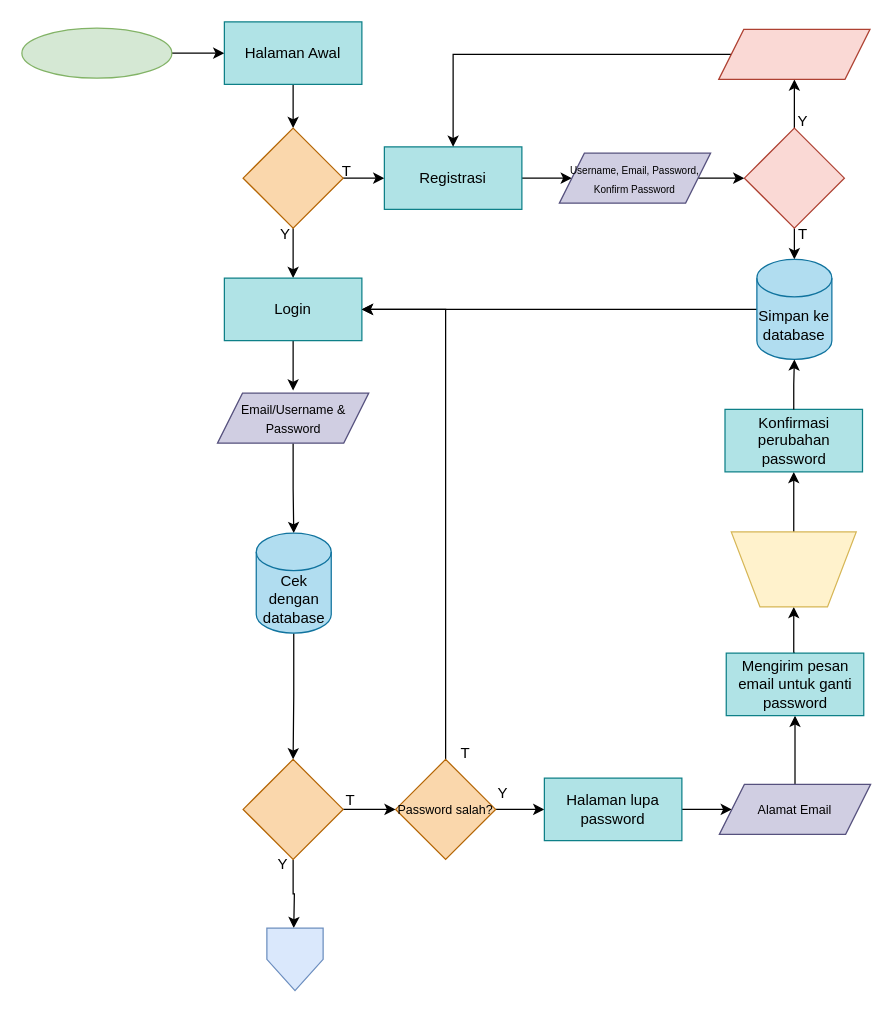
Image size: 893x1013. Some labels were removed from this diagram. Each missing label, with the centre of its shape:
Apakah berhasil?: point (292, 808)
Email duplikat?: point (793, 177)
Error "Email sudah pernah digunakan": point (794, 53)
Mengubah Password: point (793, 569)
START: point (96, 52)
Sudah punya akun?: point (292, 177)
